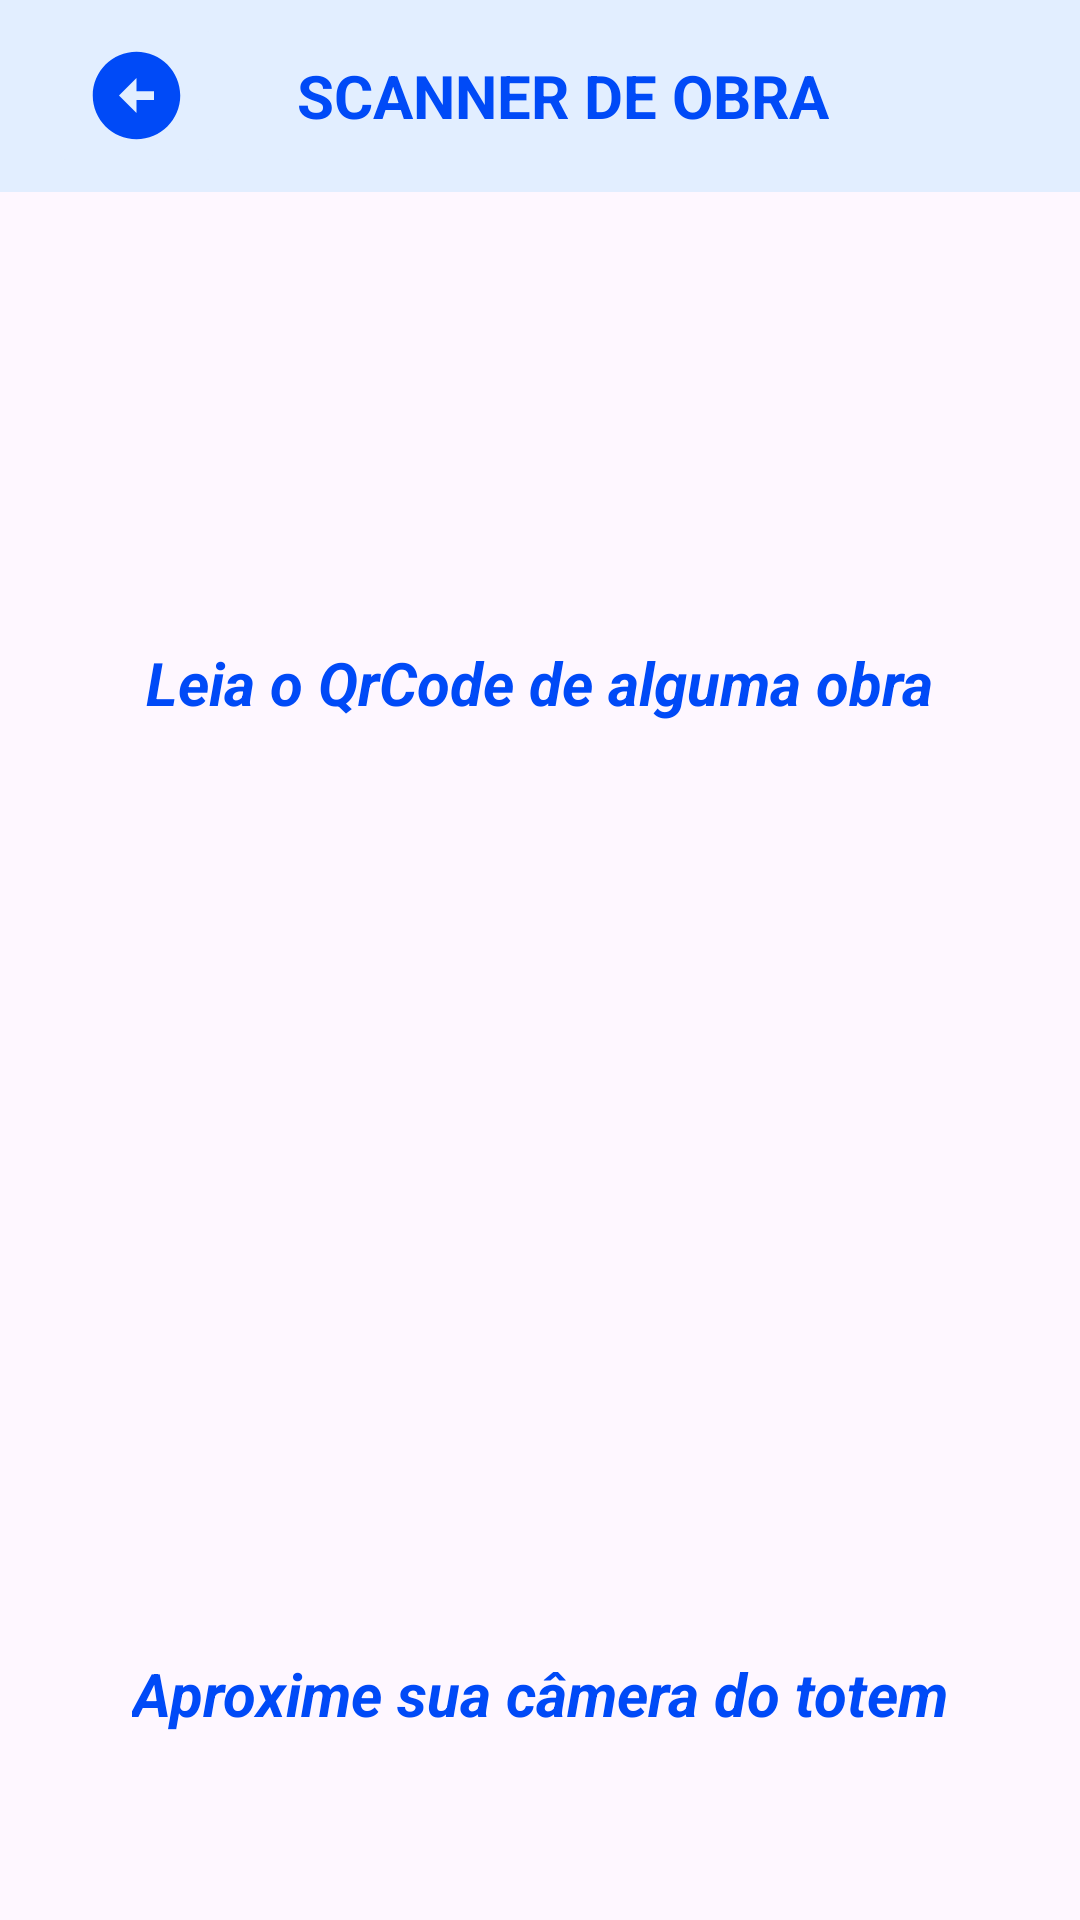

Locate icon controls on the screen. Image size 1080×1920, boxes as (x1, y1, x2, y2).
arrow circle left: (92, 51, 181, 140)
